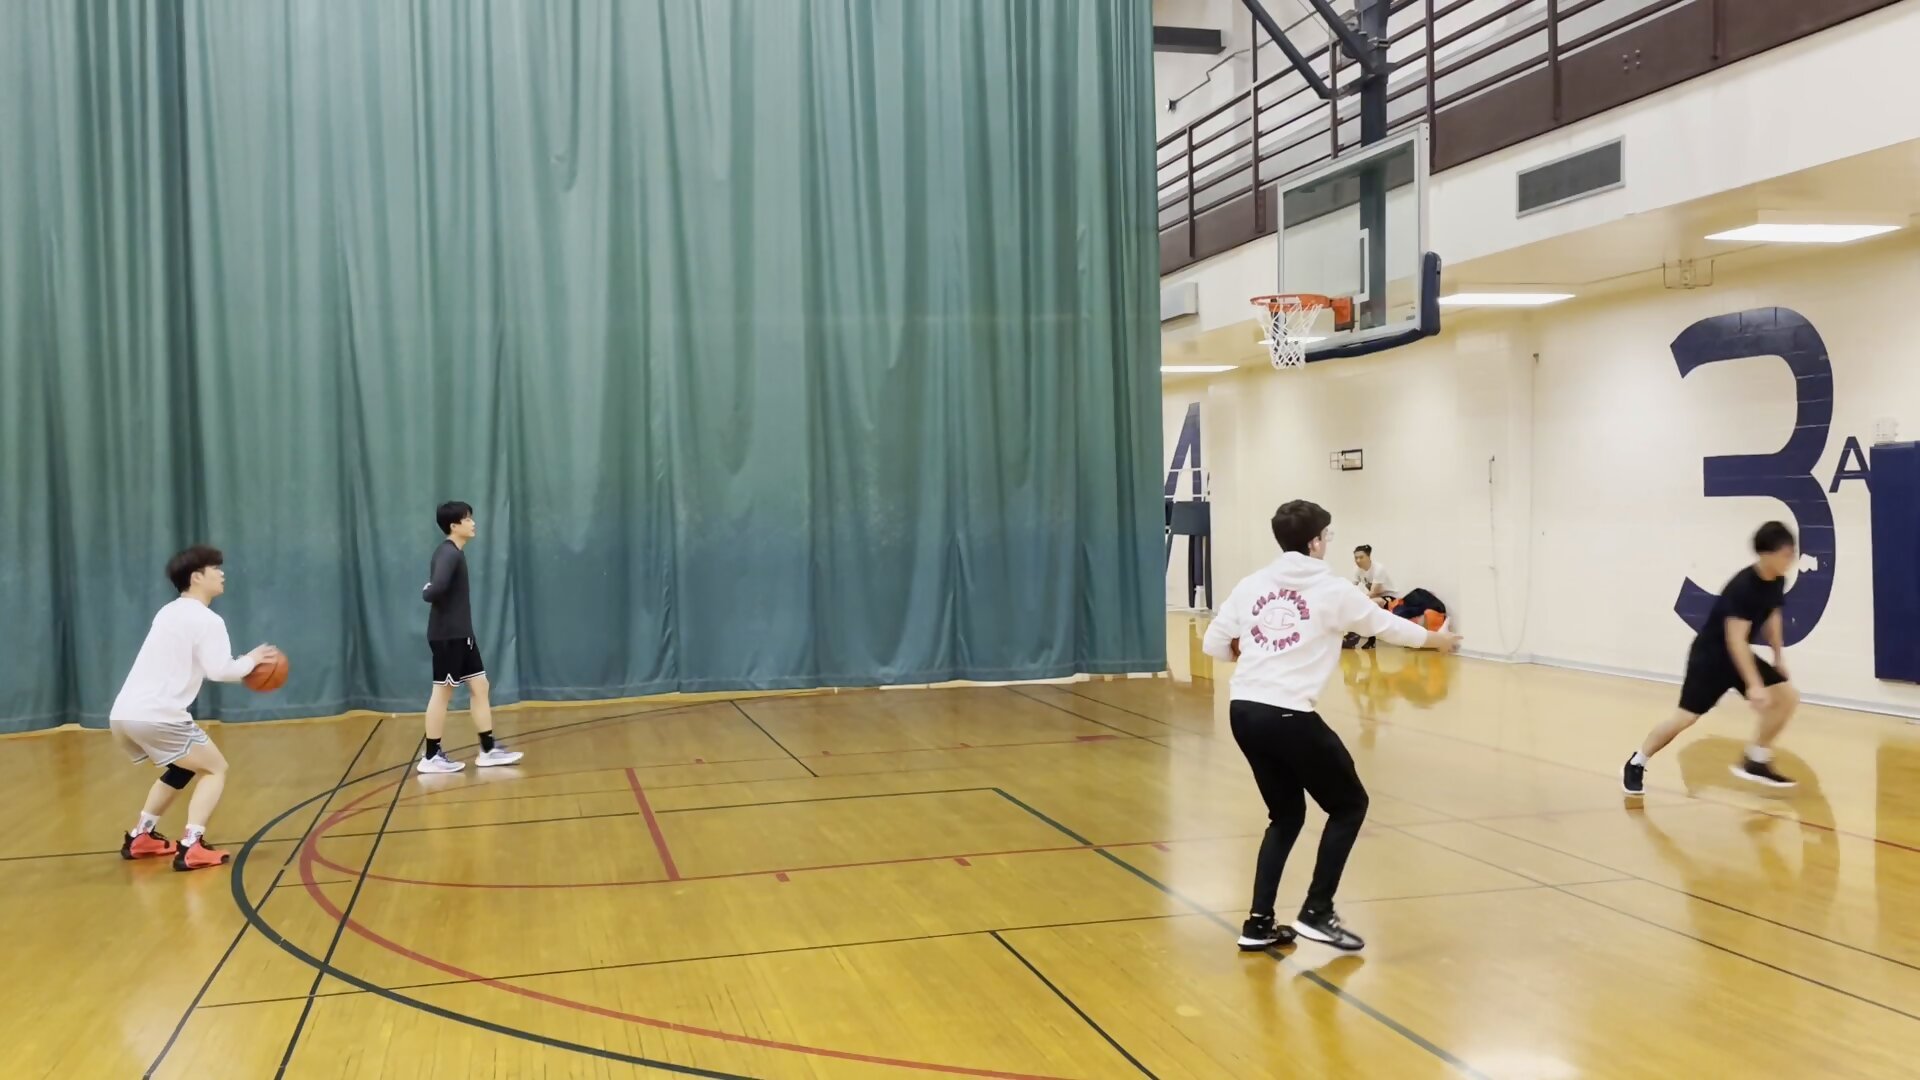ball: (241, 641, 289, 697)
net: (1259, 338, 1315, 374)
player: (1203, 496, 1465, 960), (1620, 519, 1816, 801), (108, 543, 263, 873), (410, 496, 530, 782), (1340, 543, 1403, 654)
rim: (1244, 287, 1335, 316)
